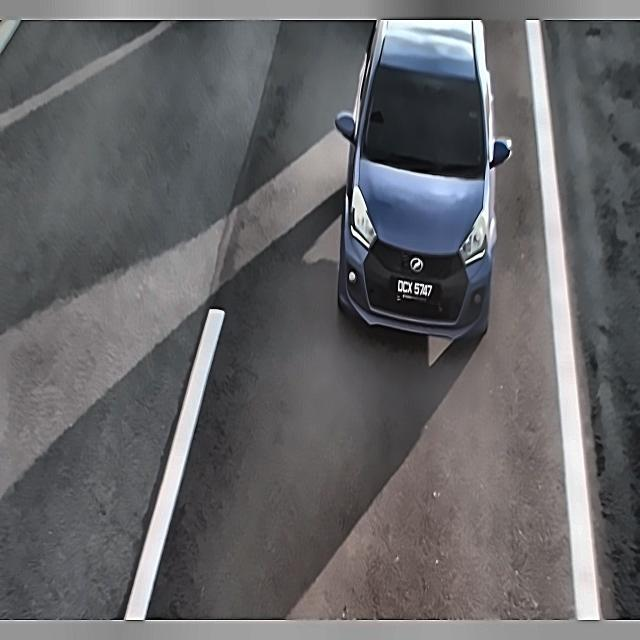car: (389, 261, 436, 309)
